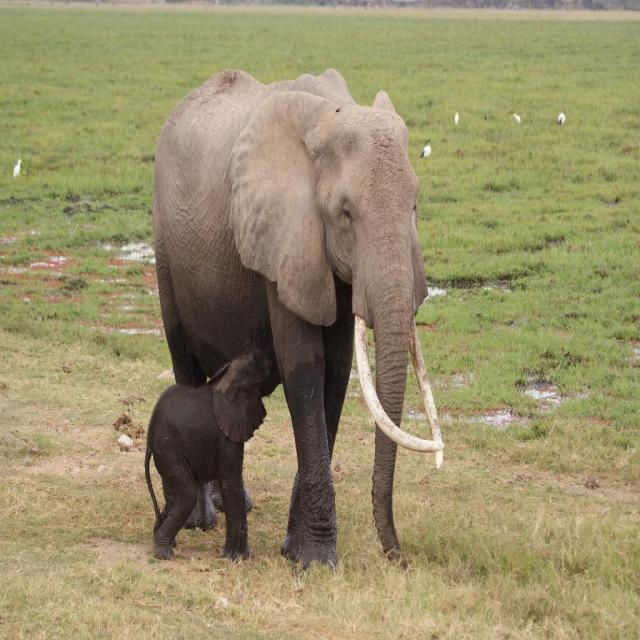elephant: (138, 61, 446, 586), (145, 346, 264, 560)
